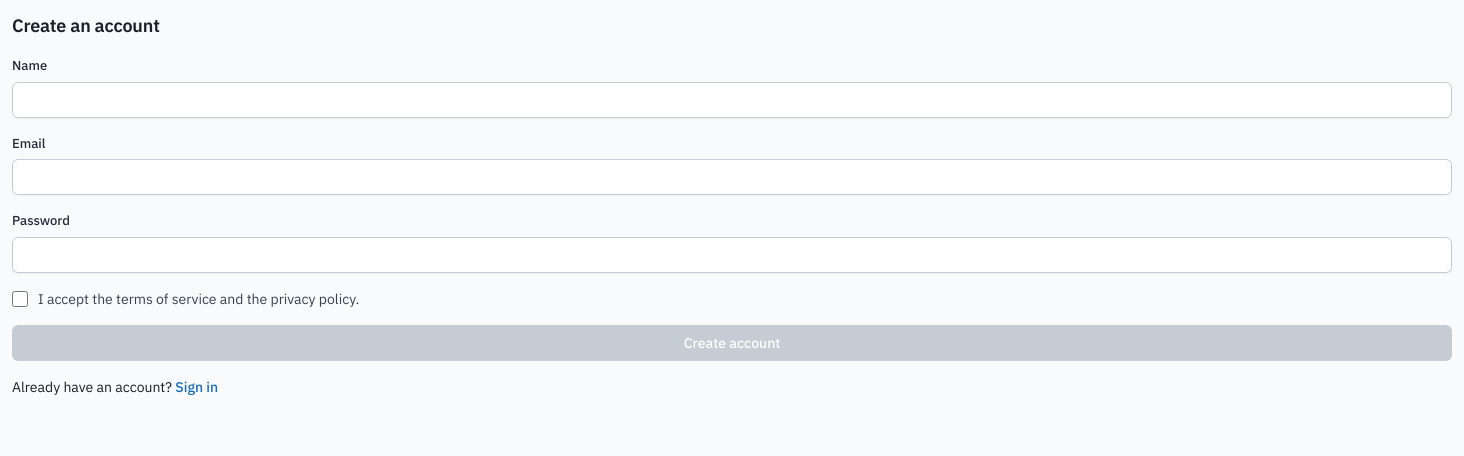
it: SignUpForm › explains a short password and an incomplete email instead of sending them
Type "New Person" into the field labelled "Name".
click(732, 100); type("New Person")  # box [12, 82, 1452, 118]
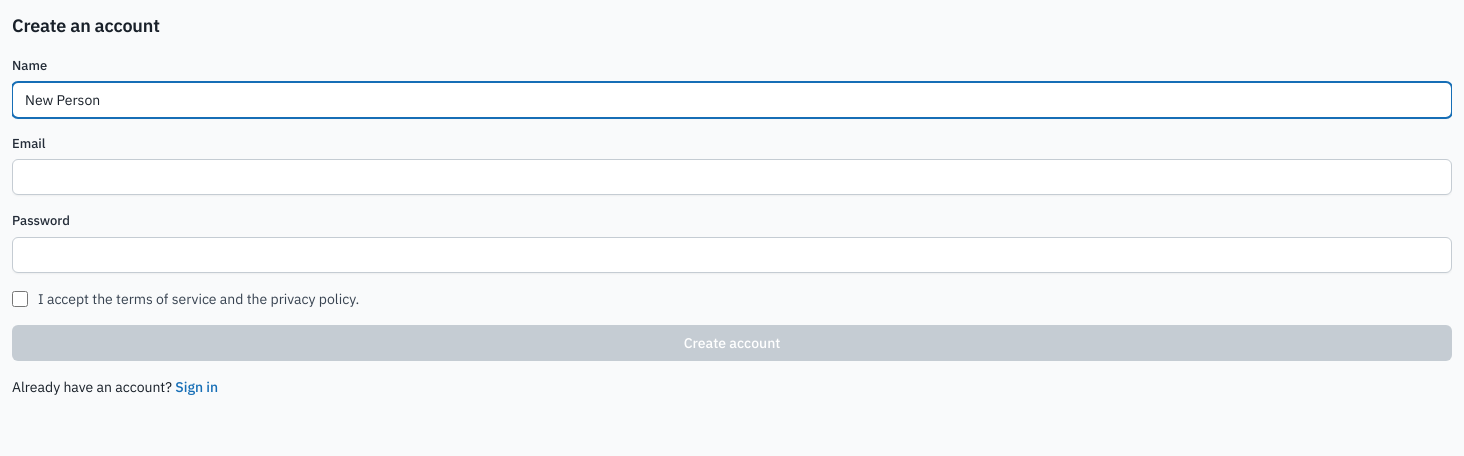
Type "new@example" into the field labelled "Email".
click(732, 177); type("new@example")  # box [12, 159, 1452, 195]
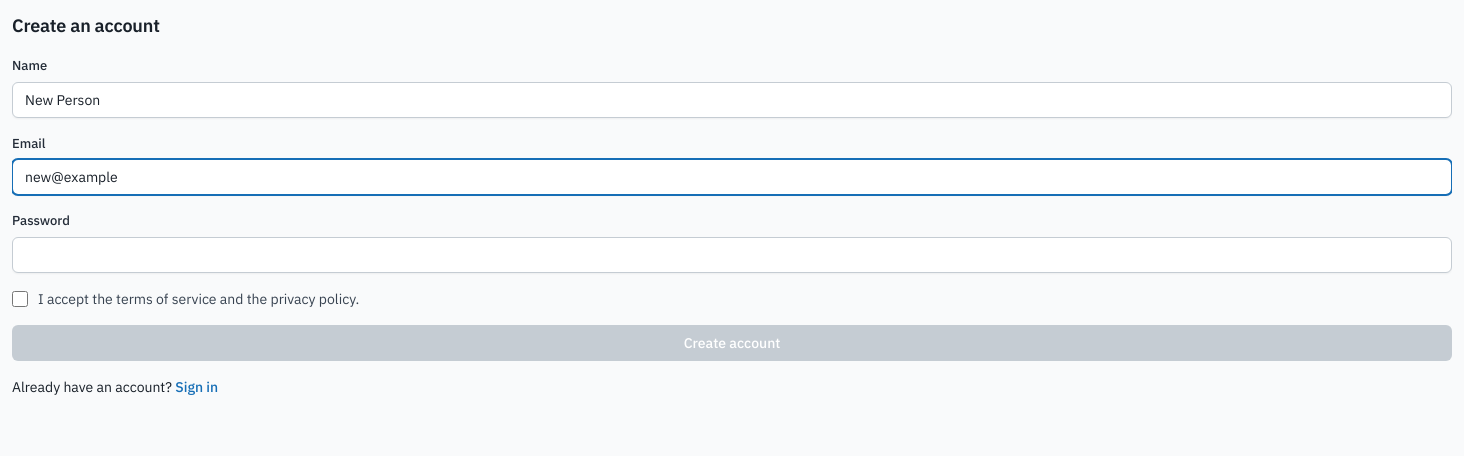
Type "short" into the password field labelled "Password".
click(732, 254); type("short")  # box [12, 236, 1452, 272]
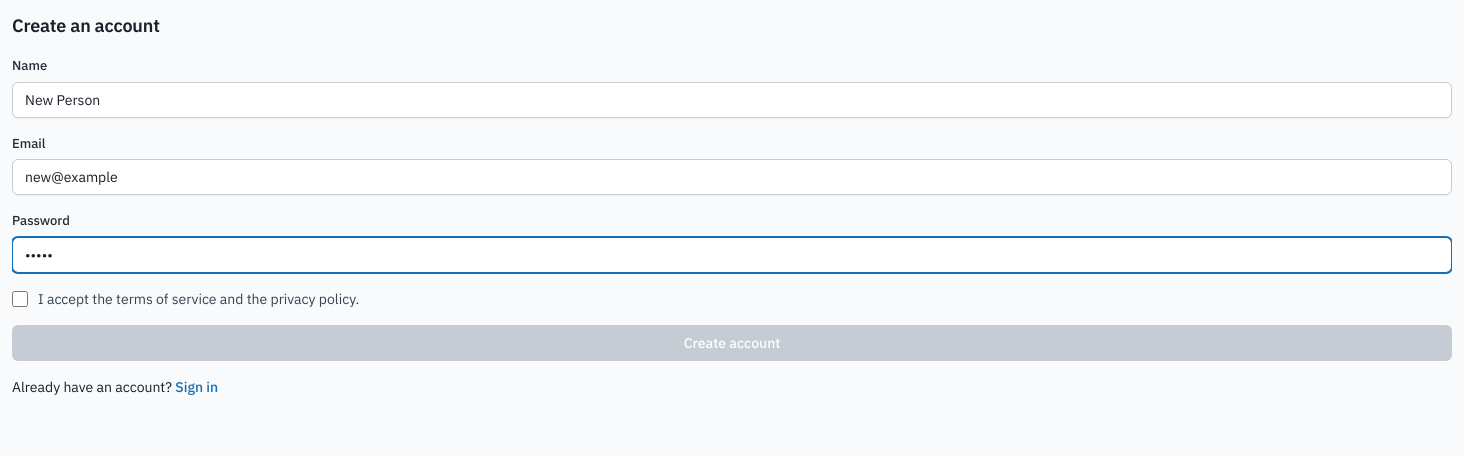
Click the checkbox.
click(20, 298)  # box [12, 290, 28, 306]
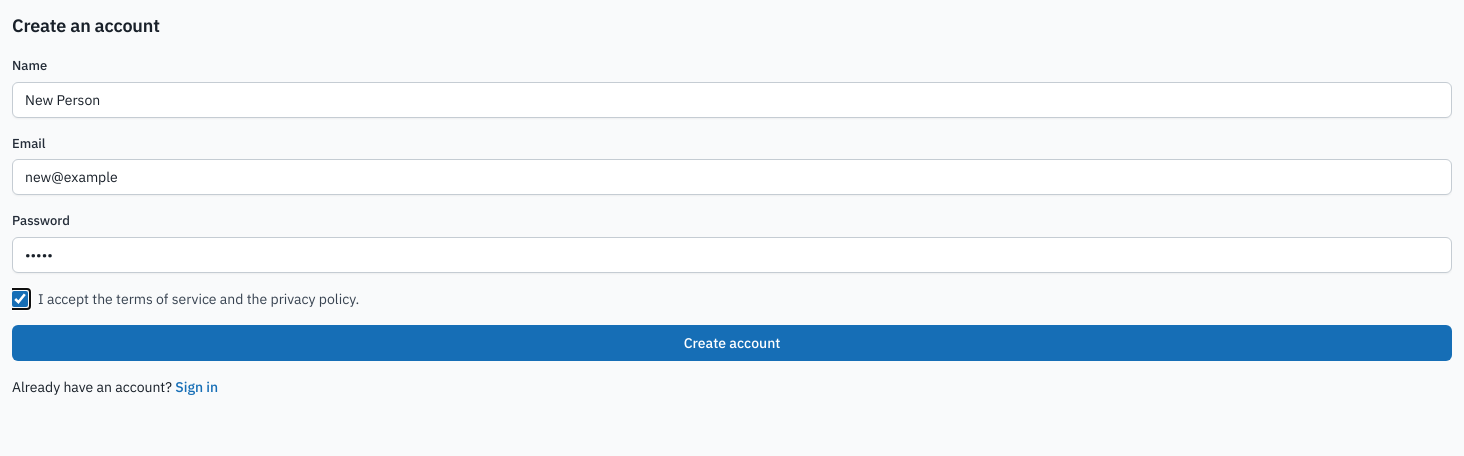
Click the button "Create account".
click(732, 342)  # box [12, 324, 1452, 360]
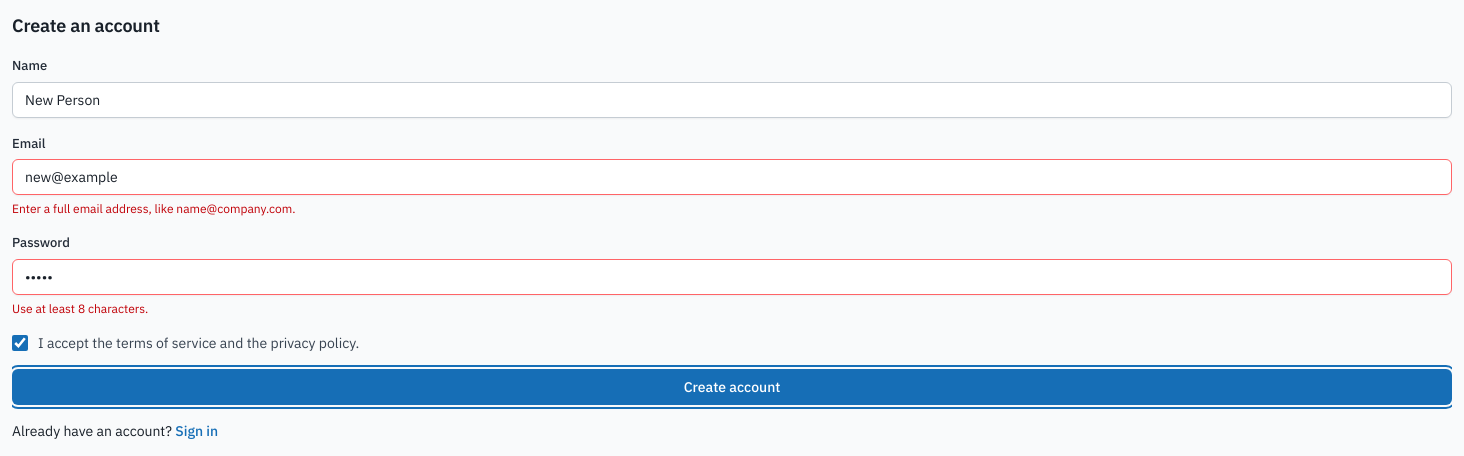
Check: the text "Enter a full email address, like name@company.com." is shown, box [12, 201, 296, 216]
Check: the text "Use at least 8 characters." is shown, box [12, 300, 148, 316]
